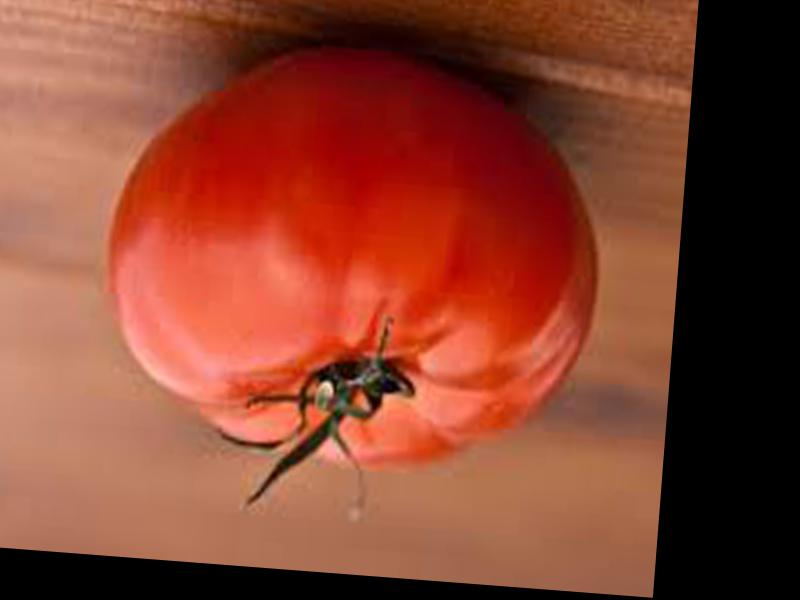Tomato: (89, 30, 611, 483)
